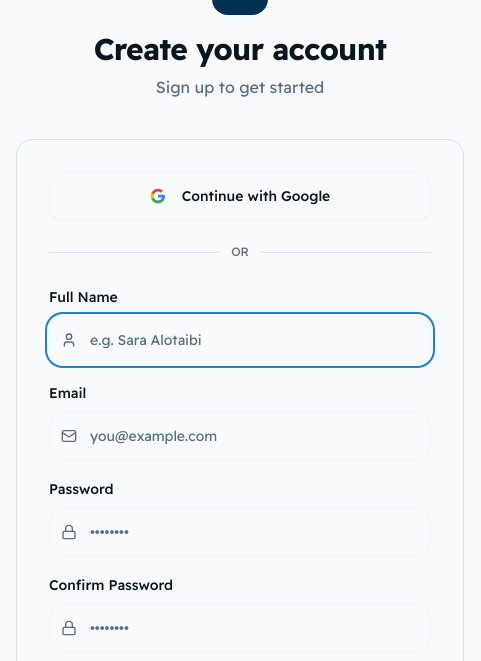
Test: registration: a verified new user actually ends up signed in › accepting only one required consent still blocks and names the missing one
In the field labelled "Full Name": (240, 340) [49, 316, 431, 364], type "Sara"
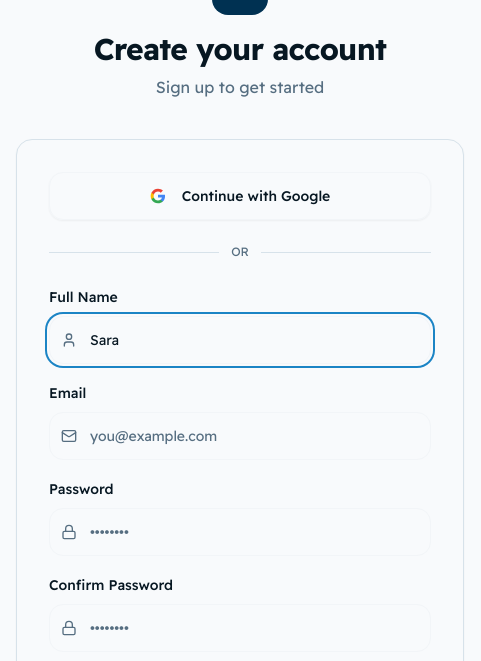
In the field labelled "Email": (240, 436) [49, 412, 431, 460], type "x@example.com"
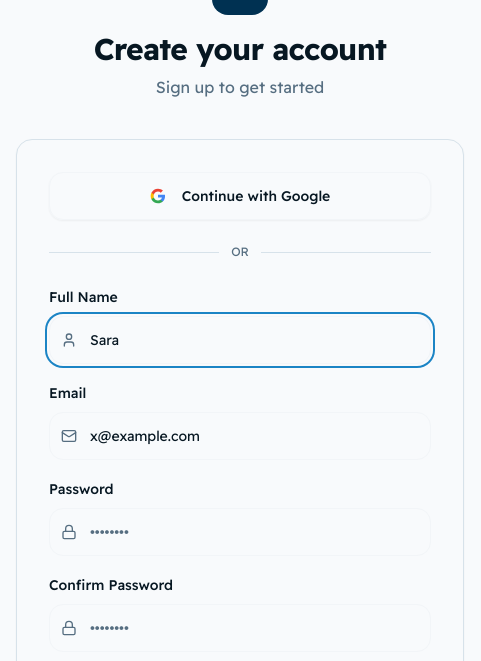
In the password field labelled "Password": (240, 532) [49, 508, 431, 556], type "aaaaaa1!"
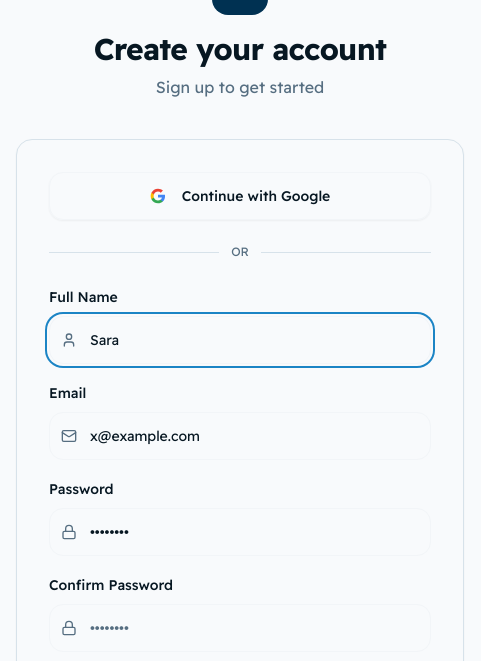
In the password field labelled "Confirm Password": (240, 628) [49, 604, 431, 652], type "aaaaaa1!"
(page scrolled)
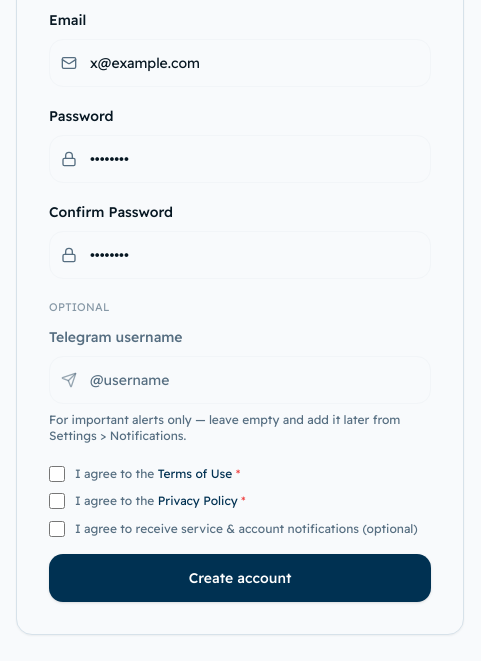
Click the checkbox named "Accept the Terms of Use": click(57, 474) [49, 466, 65, 482]
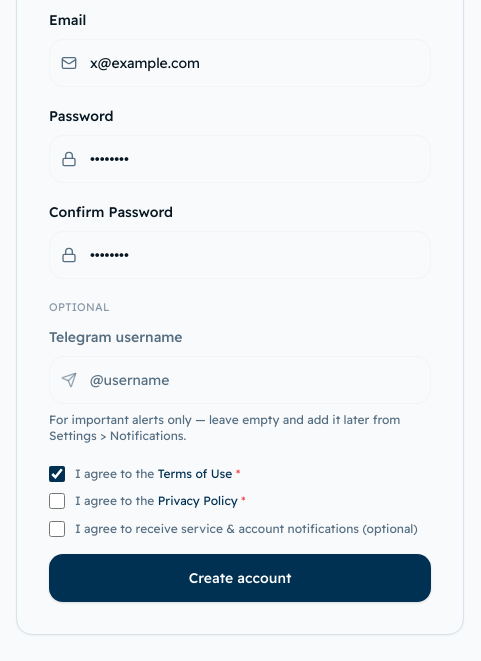
Click the button "Create account": click(240, 578) [49, 554, 431, 602]
(page scrolled)
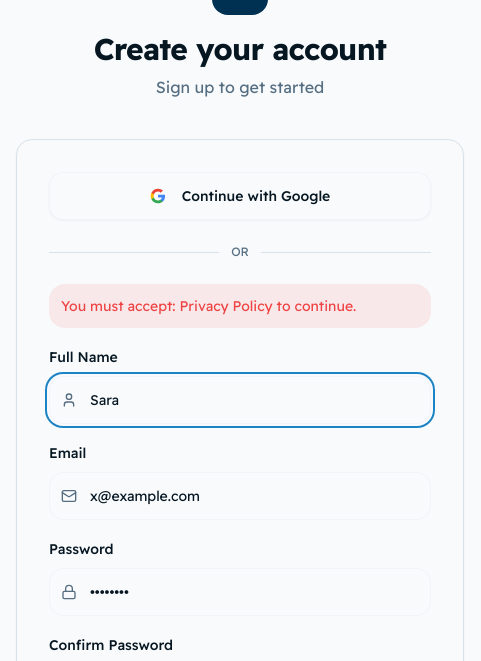
Now the text "You must accept: Privacy Policy to continue." is shown, box [49, 284, 431, 328]
